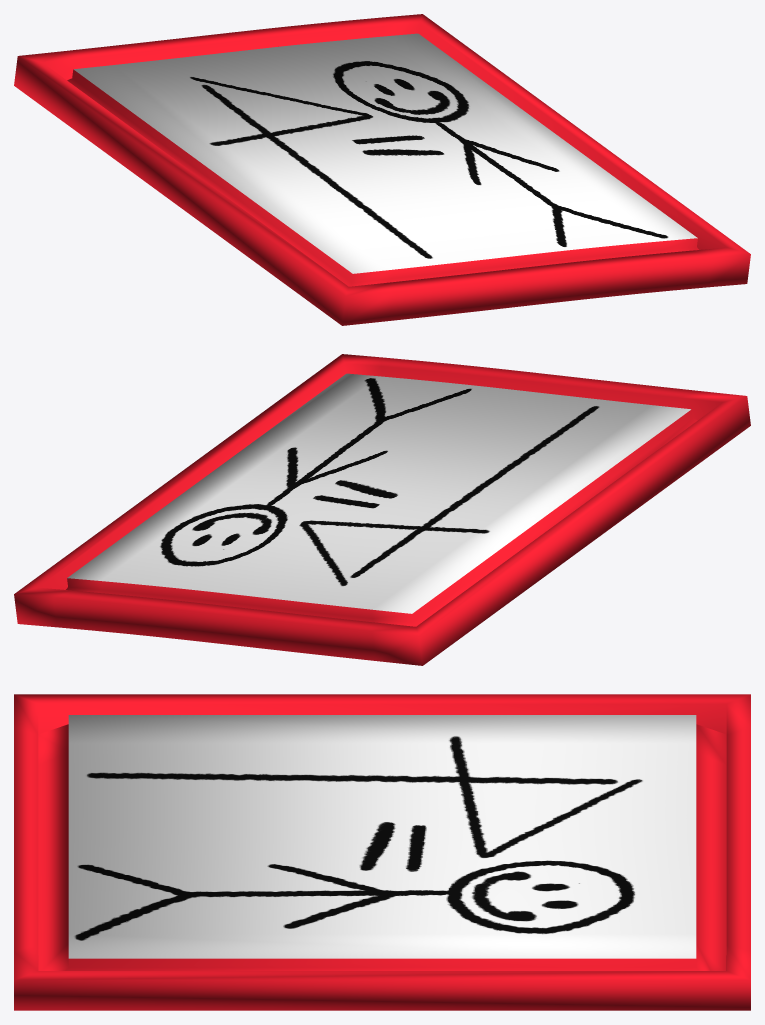
Rendered from HappyPersonEqual4Book.fbx.
3 views of the same model, one above another, from view 1: azimuth 30°, elevation 25°; view 2: azimuth 150°, elevation 25°; view 3: azimuth 270°, elevation 25° (orthographic). The views are drawn at different scales.
Parts seen in each view (by area): view 1: BezierCurve.002; view 2: BezierCurve.002; view 3: BezierCurve.002.
Part boxes in pixels (left/top/right/bottom): BezierCurve.002: left=14, top=14, right=750, bottom=325; BezierCurve.002: left=14, top=354, right=750, bottom=665; BezierCurve.002: left=14, top=694, right=750, bottom=1010.
Bounding box in the file's own units: 699 × 140 × 973.
